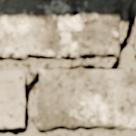brick: (0, 0, 122, 58), (36, 68, 135, 129), (0, 70, 24, 128), (133, 0, 135, 21), (134, 28, 135, 55)
crack: (0, 0, 135, 135)
